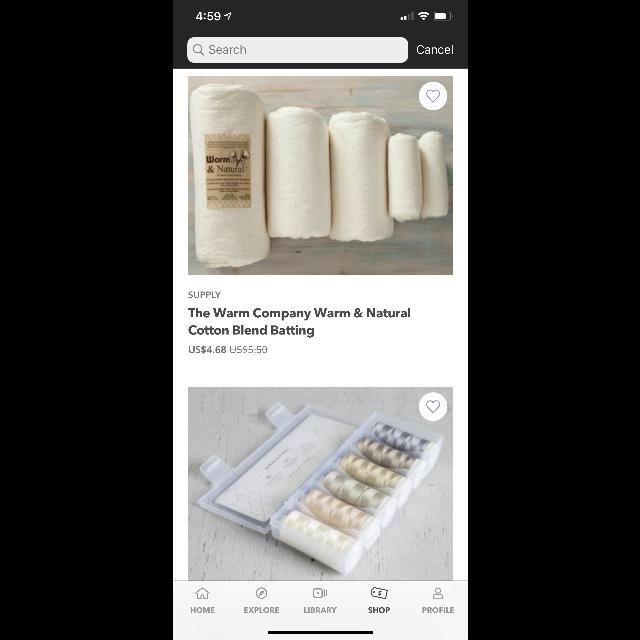icon: (419, 82, 447, 110), (419, 393, 447, 421), (370, 587, 388, 599), (192, 44, 204, 56), (313, 588, 327, 598), (195, 588, 209, 598), (433, 588, 443, 598), (256, 588, 266, 598)
image: (188, 77, 452, 276), (188, 388, 452, 580)
input: (186, 38, 408, 62)
text: (187, 308, 409, 338), (188, 346, 266, 354), (209, 46, 245, 54), (416, 46, 452, 54), (422, 607, 454, 613), (188, 292, 220, 298), (190, 607, 214, 613), (244, 608, 278, 612), (368, 607, 390, 613), (304, 608, 336, 612)
uppertaskbar: (196, 12, 452, 21)
